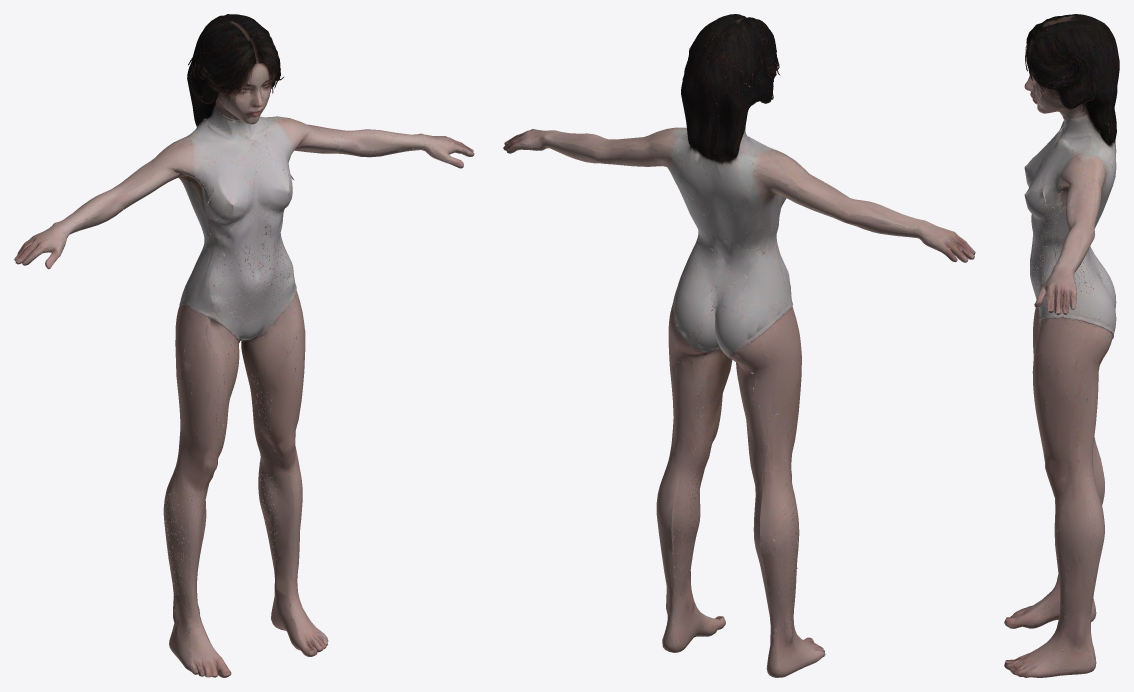
Rendered from alice.glb.
3 views of the same model, side by side, from view 1: azimuth 30°, elevation 25°; view 2: azimuth 150°, elevation 25°; view 3: azimuth 270°, elevation 25° (orthographic). The views are drawn at different scales.
Visible parts, largest first — view 1: node_0; view 2: node_0; view 3: node_0.
Boxes of the visible parts, x1,y1,x2,y2 form: node_0: [14, 14, 474, 677]; node_0: [503, 14, 975, 677]; node_0: [1004, 14, 1119, 677].
Size of the model in its own units: 0.9003 by 1.18 by 0.1953.
1 material, 1 textured.
